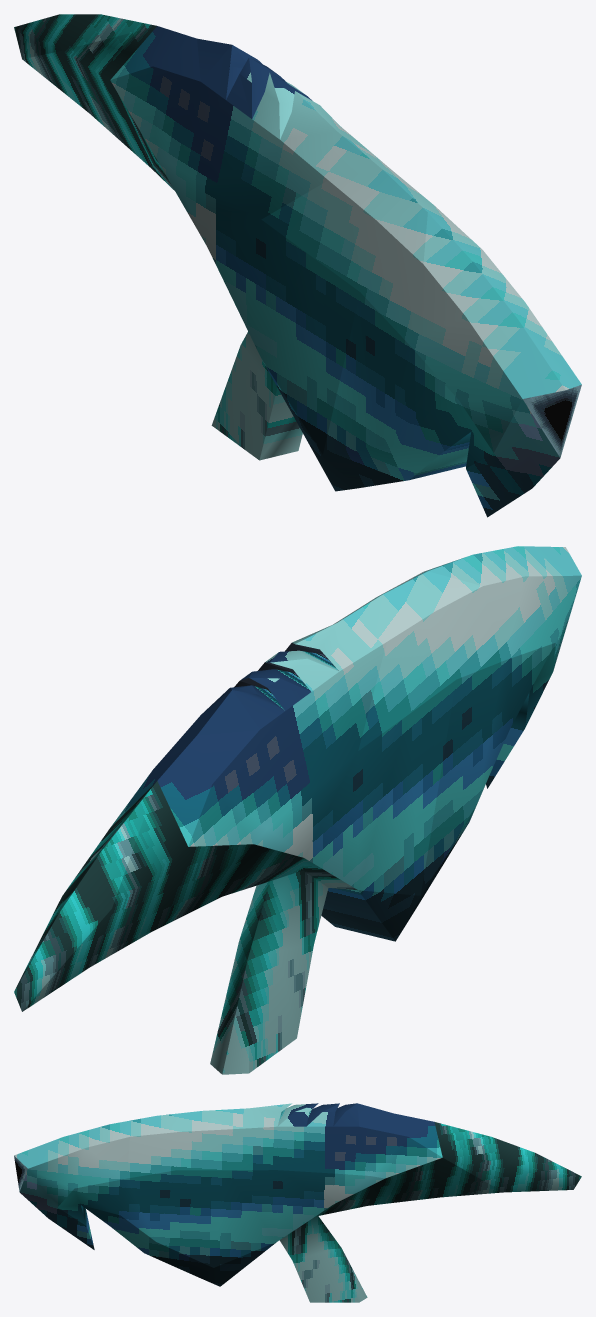
Rendered from 0b-callisto-ntg-fp.glb.
3 views of the same model, one above another, from view 1: azimuth 30°, elevation 25°; view 2: azimuth 150°, elevation 25°; view 3: azimuth 270°, elevation 25° (orthographic). The views are drawn at different scales.
Parts seen in each view (by area): view 1: gun; view 2: gun; view 3: gun.
Boxes of the visible parts, <box> form: gun: <box>14,14,581,517</box>; gun: <box>14,546,581,1074</box>; gun: <box>14,1103,581,1302</box>.
Bounding box in the file's own units: 75.42 × 278 × 736.
Materials: 3 (3 with a texture image).
